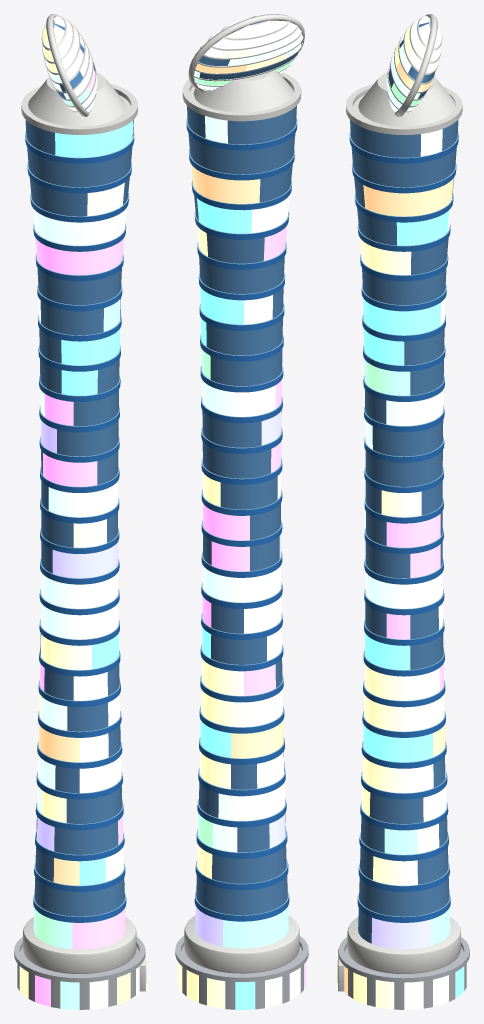
File: arranha_ceu_cilindro_topo_vidro.glb
The picture shows the model from 3 angles, left to right: view 1: azimuth 90°, elevation 25°; view 2: azimuth 210°, elevation 25°; view 3: azimuth 270°, elevation 25°; orthographic projection.
Parts seen in each view (by area): view 1: arranha_ceu_cilindro_topo_vidro; view 2: arranha_ceu_cilindro_topo_vidro; view 3: arranha_ceu_cilindro_topo_vidro.
Boxes of the visible parts, x1=… form: arranha_ceu_cilindro_topo_vidro: x1=14, y1=14, x2=146, y2=1009; arranha_ceu_cilindro_topo_vidro: x1=175, y1=14, x2=308, y2=1009; arranha_ceu_cilindro_topo_vidro: x1=337, y1=14, x2=469, y2=1009.
Bounding box in the file's own units: 12.5 × 101 × 12.64.
9 materials, 1 textured.
